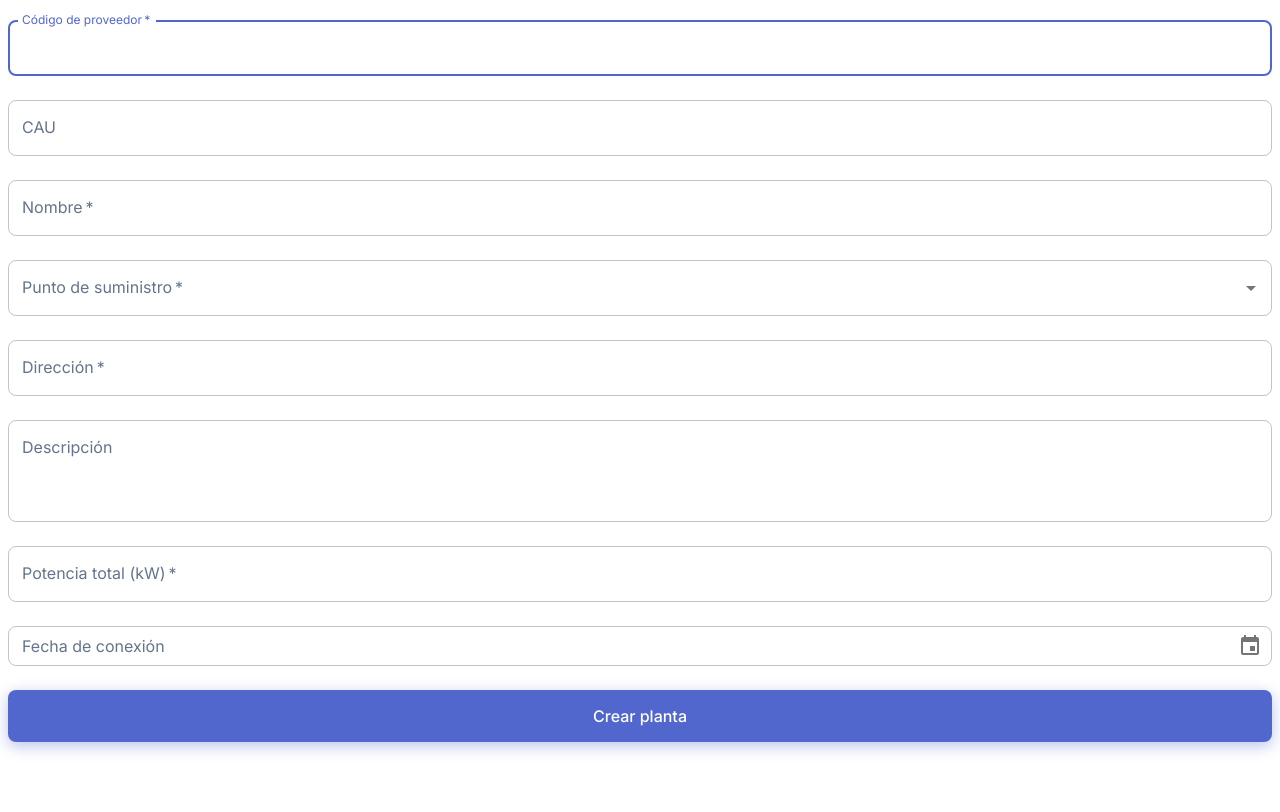
it: PlantForm's supply picker › offers only the supplies the caller may build a plant on
This screenshot has width=1280, height=812.
Click the dropdown labelled "Punto de suministro *".
click(625, 288)  # box 17,269 -> 1233,307
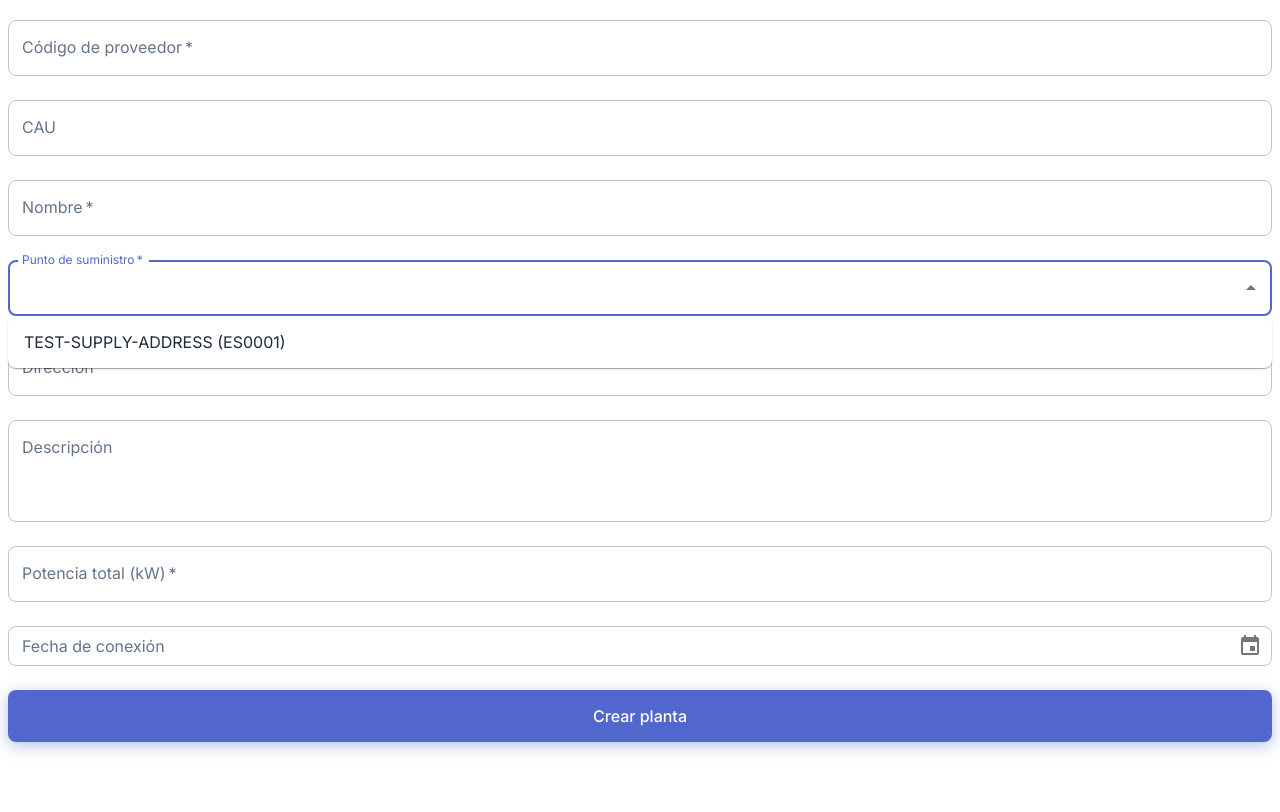
expect the option "TEST-SUPPLY-ADDRESS (ES0001)" is shown: met, box 24,332 -> 286,352
